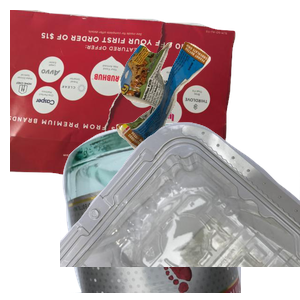glass: (60, 120, 300, 300)
paper: (10, 10, 238, 190)
plastic: (60, 120, 300, 300)
trash: (114, 39, 300, 188)
